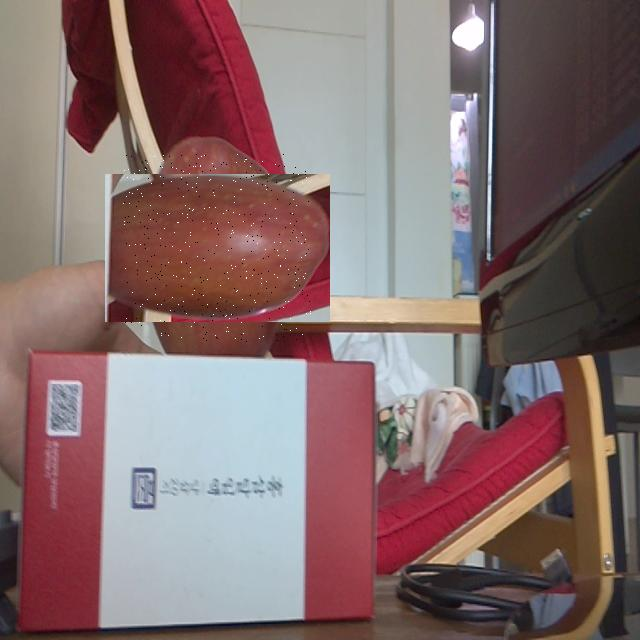apple: (123, 154, 311, 342)
